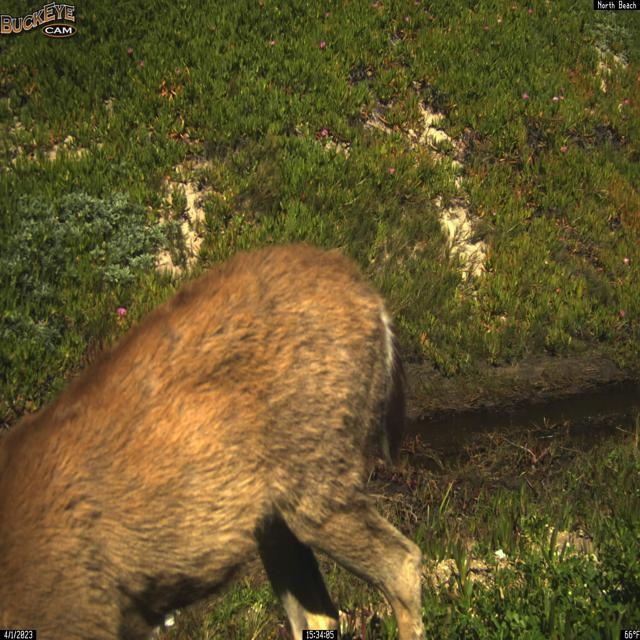deer: (0, 242, 424, 640)
